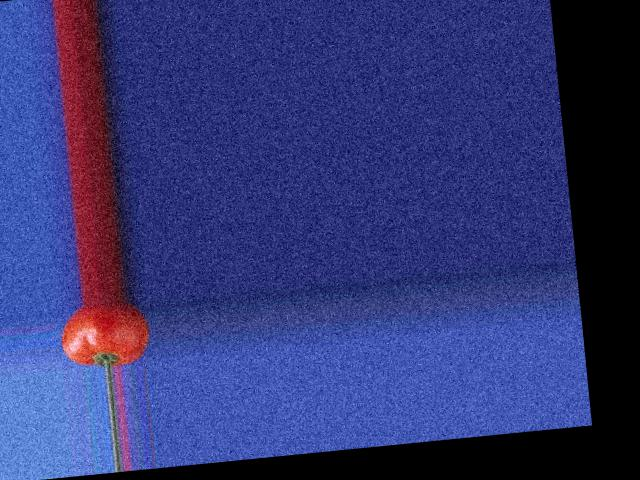tomato: (59, 298, 153, 371)
